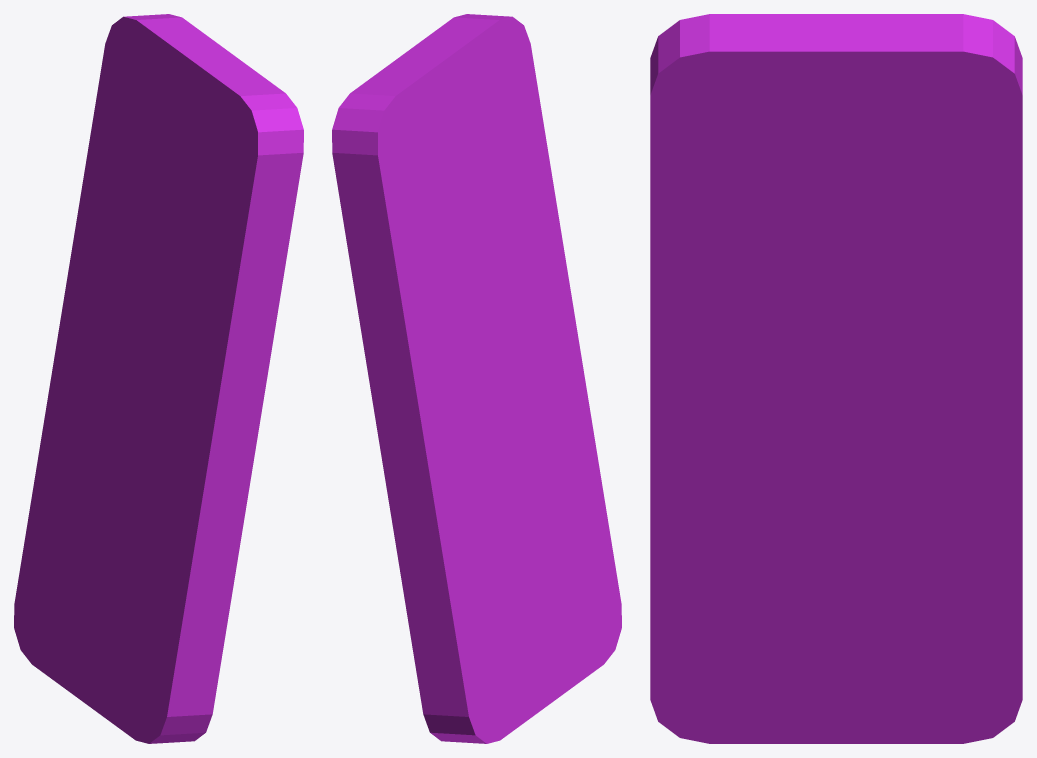
Rendered from PDA.fbx.
The picture shows the model from 3 angles, left to right: view 1: azimuth 30°, elevation 25°; view 2: azimuth 150°, elevation 25°; view 3: azimuth 270°, elevation 25°; orthographic projection. The views are drawn at different scales.
Parts seen in each view (by area): view 1: PDA; view 2: PDA; view 3: PDA.
Part boxes in pixels (left/top/right/bottom): PDA: left=14, top=14, right=303, bottom=743; PDA: left=332, top=14, right=621, bottom=743; PDA: left=650, top=14, right=1022, bottom=743.
Size of the model in its own units: 9.59 by 38.28 by 16.9.
